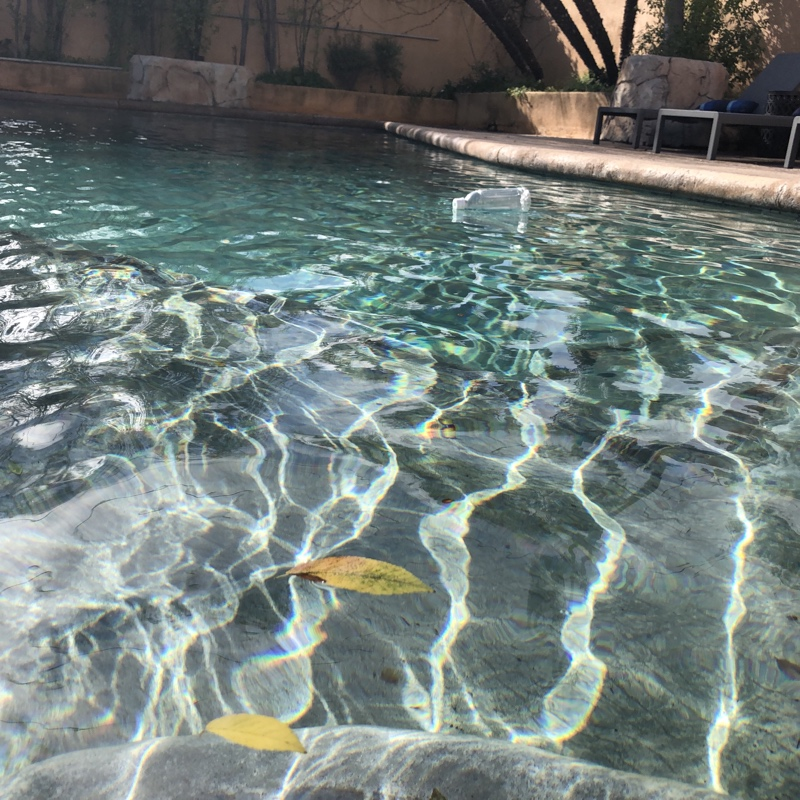Plastic Bottle: (447, 184, 531, 217)
